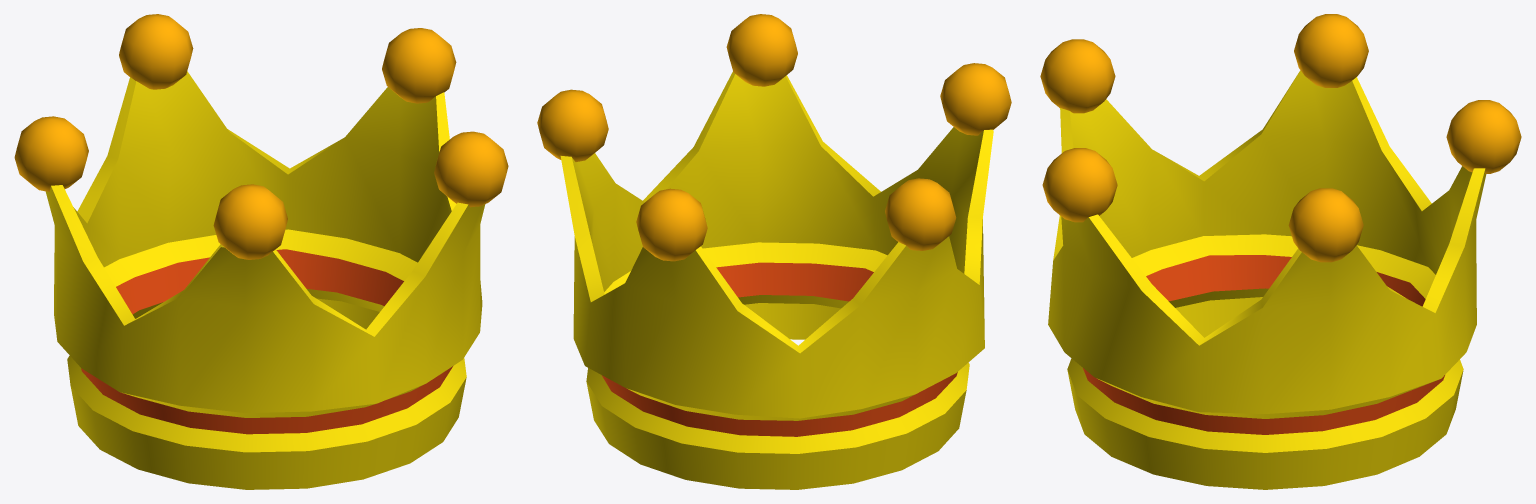
File: Crown_01.fbx
The picture shows the model from 3 angles, left to right: view 1: azimuth 30°, elevation 25°; view 2: azimuth 150°, elevation 25°; view 3: azimuth 270°, elevation 25°; orthographic projection. The views are drawn at different scales.
Parts seen in each view (by area): view 1: Crown_01; view 2: Crown_01; view 3: Crown_01.
Part boxes in pixels (<box>): Crown_01: <box>14,14,508,489</box>; Crown_01: <box>537,14,1011,489</box>; Crown_01: <box>1040,14,1521,489</box>.
Size of the model in its own units: 0.7168 by 0.5094 by 0.7082.
